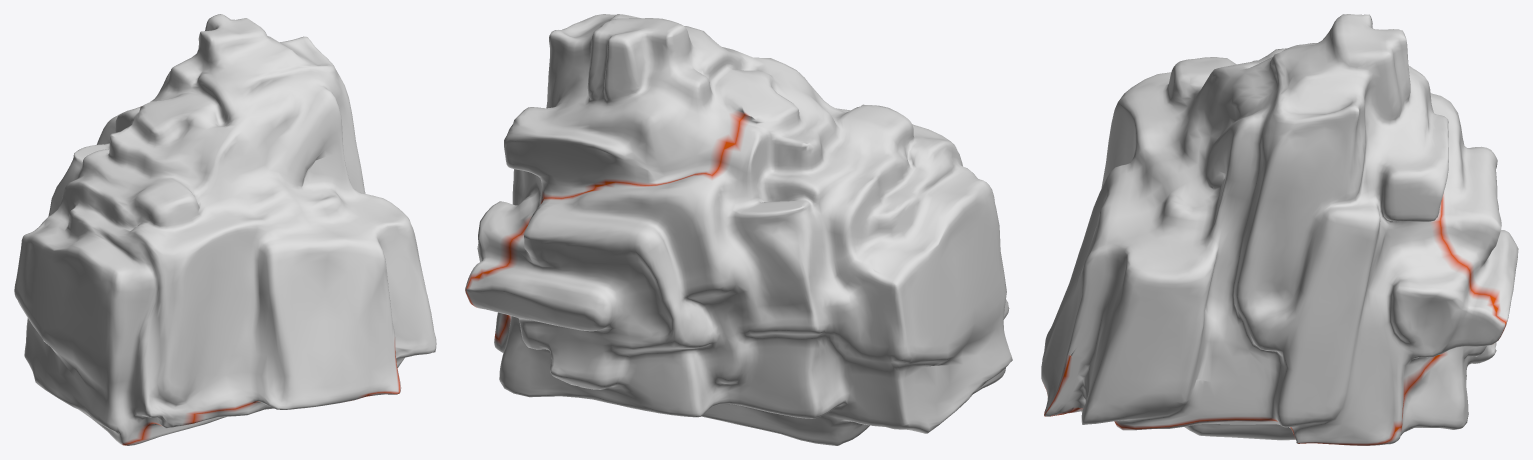
3 views of the same model, side by side, from view 1: azimuth 30°, elevation 25°; view 2: azimuth 150°, elevation 25°; view 3: azimuth 270°, elevation 25° (orthographic). The views are drawn at different scales.
Parts seen in each view (by area): view 1: R6_Min_SeamsColor; view 2: R6_Min_SeamsColor; view 3: R6_Min_SeamsColor.
Boxes of the visible parts, <box> form: R6_Min_SeamsColor: <box>14,14,436,445</box>; R6_Min_SeamsColor: <box>465,14,1012,445</box>; R6_Min_SeamsColor: <box>1041,14,1518,445</box>.
Size of the model in its own units: 4399 by 3963 by 4331.
